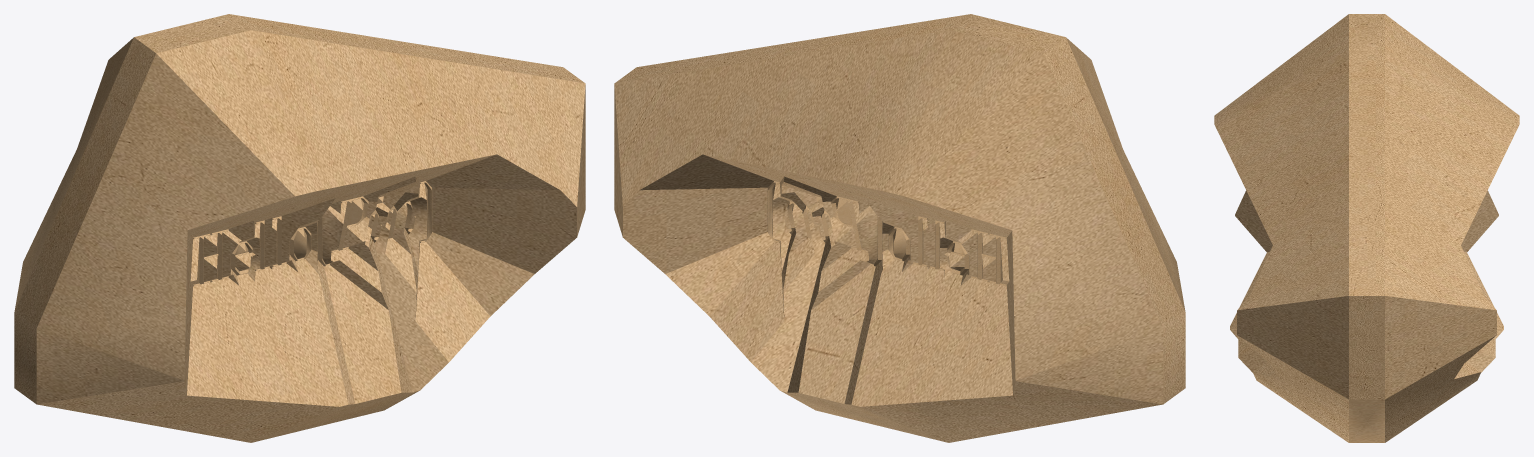
File: rin.gltf
The picture shows the model from 3 angles, left to right: view 1: azimuth 30°, elevation 25°; view 2: azimuth 150°, elevation 25°; view 3: azimuth 270°, elevation 25°; orthographic projection. The views are drawn at different scales.
Size of the model in its own units: 0.2683 by 0.1927 by 0.158.
Materials: 1 (1 with a texture image).
